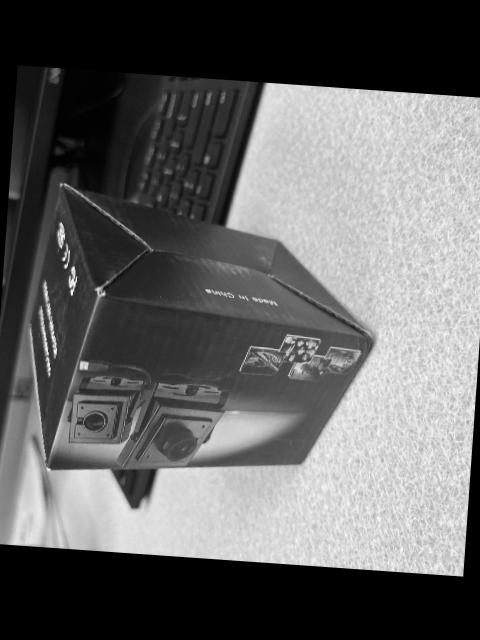CameraBox2: (29, 183, 375, 470)
